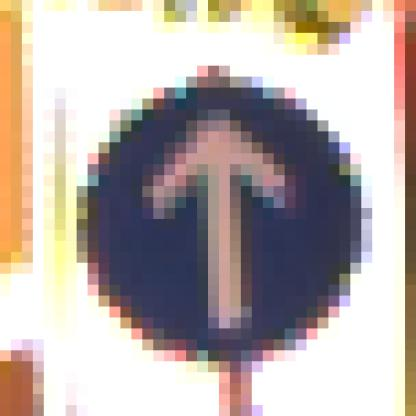AheadOnly: (67, 56, 362, 362)
